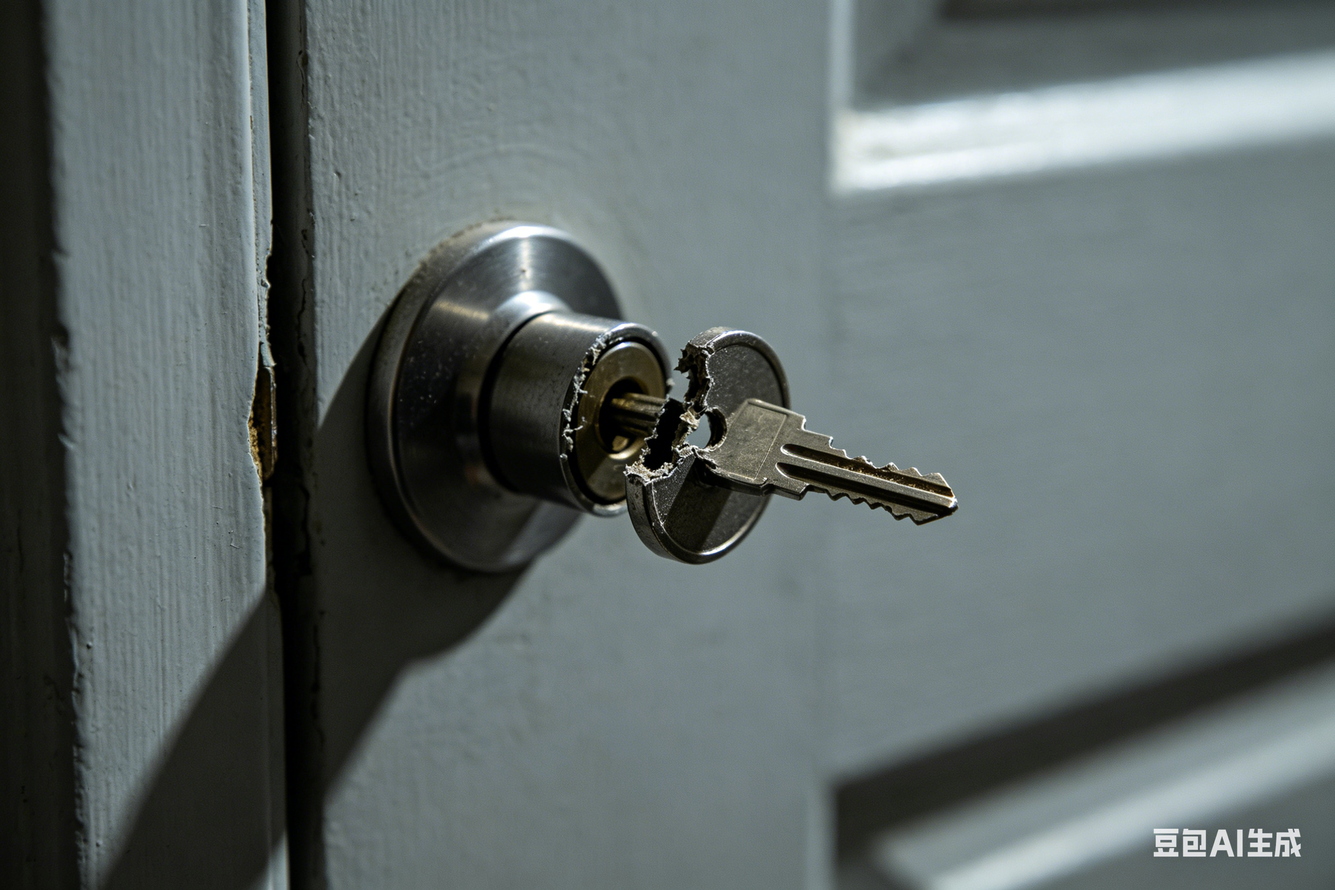BadLock: (548, 309, 783, 527)
